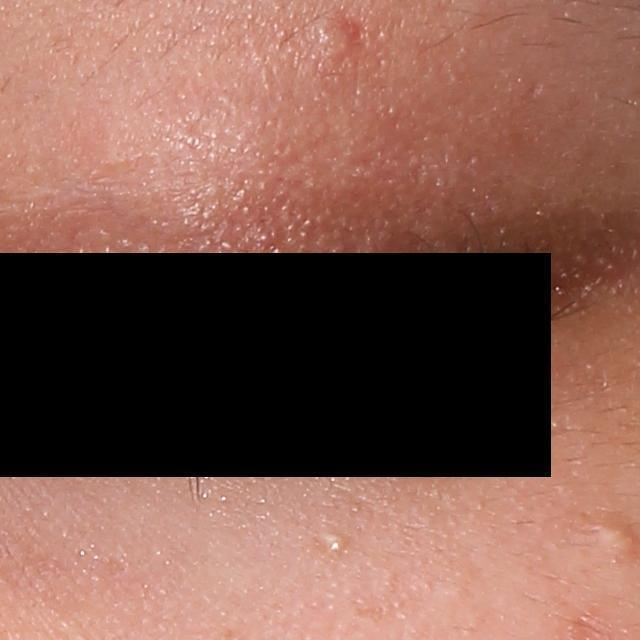comedo: (316, 525, 356, 558)
other: (311, 10, 365, 64)
